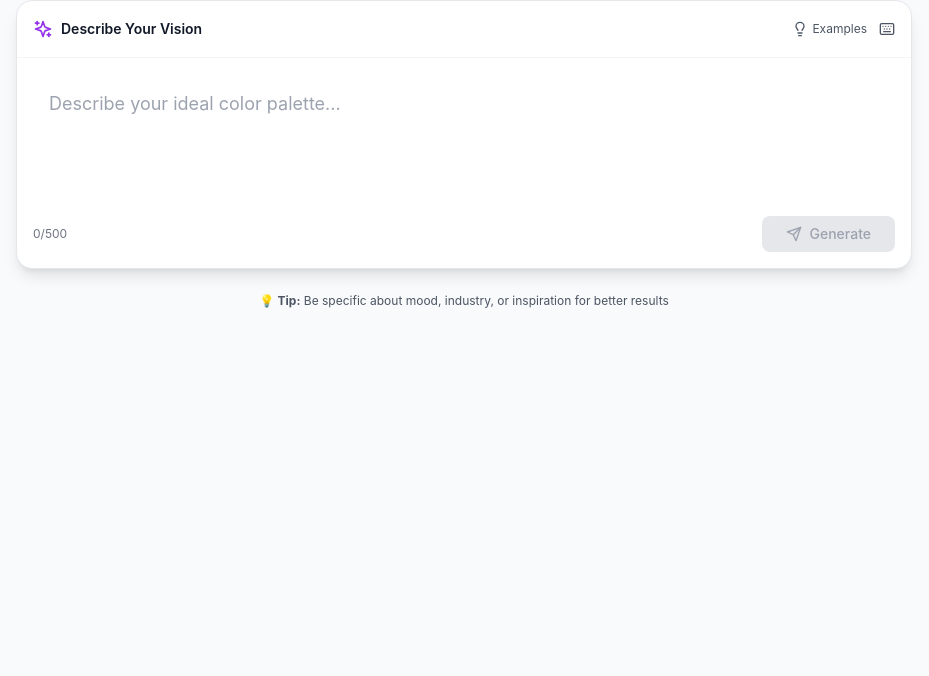
Test case: PromptInput › Examples Functionality › should show examples list when examples button is clicked
Click the button "Examples": (830, 29) [788, 17, 871, 41]
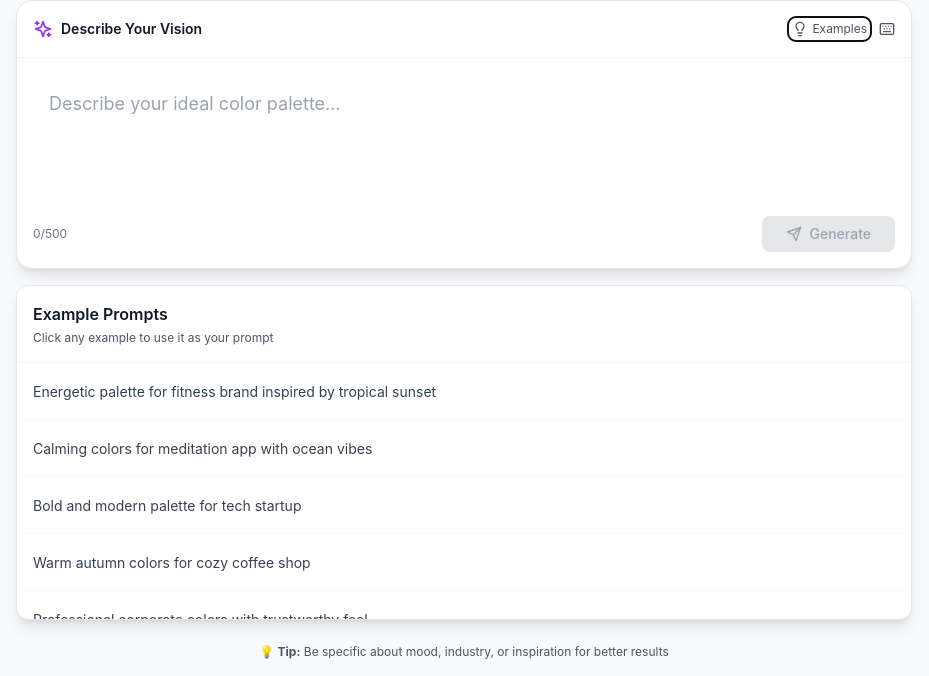
Check: the heading "Example Prompts" is shown, box [33, 304, 168, 324]
Check: the text "Energetic palette for fitness brand inspired by tropical sunset" is shown, box [33, 383, 436, 400]
